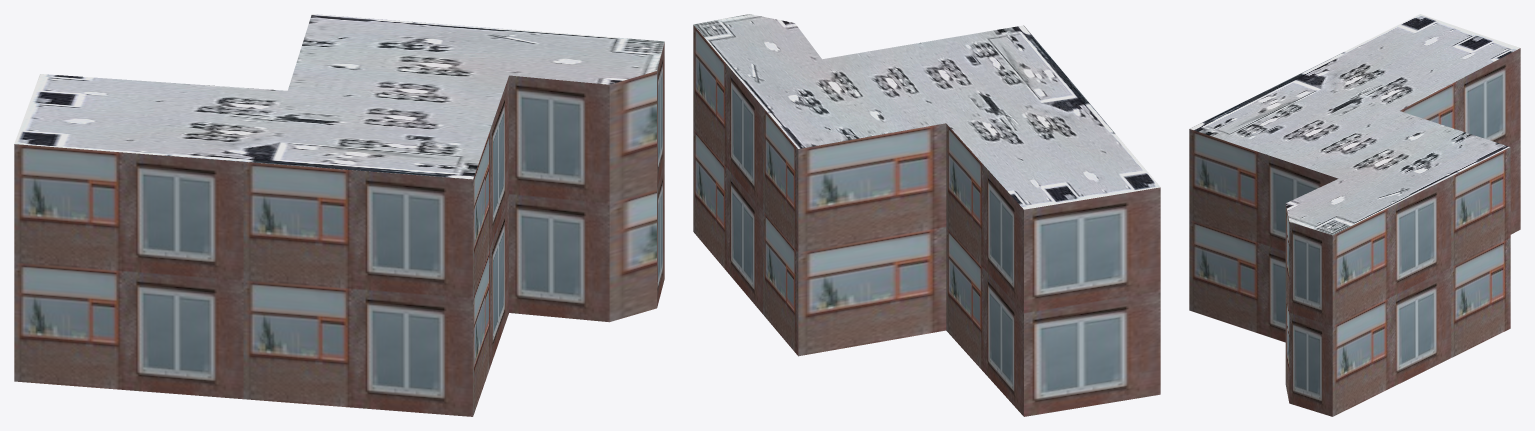
File: ResTex__2156.fbx
The picture shows the model from 3 angles, left to right: view 1: azimuth 30°, elevation 25°; view 2: azimuth 150°, elevation 25°; view 3: azimuth 270°, elevation 25°; orthographic projection. The views are drawn at different scales.
Parts seen in each view (by area): view 1: CityEngineMaterial_19_m, CityEngineMaterial_15_m; view 2: CityEngineMaterial_19_m, CityEngineMaterial_15_m; view 3: CityEngineMaterial_19_m, CityEngineMaterial_15_m.
Part boxes in pixels (x1,y1,x2,y2): CityEngineMaterial_19_m: (14,42,664,416); CityEngineMaterial_15_m: (14,14,664,179); CityEngineMaterial_19_m: (693,25,1160,416); CityEngineMaterial_15_m: (693,14,1160,209); CityEngineMaterial_19_m: (1189,48,1520,416); CityEngineMaterial_15_m: (1190,14,1519,235).
Size of the model in its own units: 15.69 by 6 by 9.92.
Materials: 2 (2 with a texture image).
